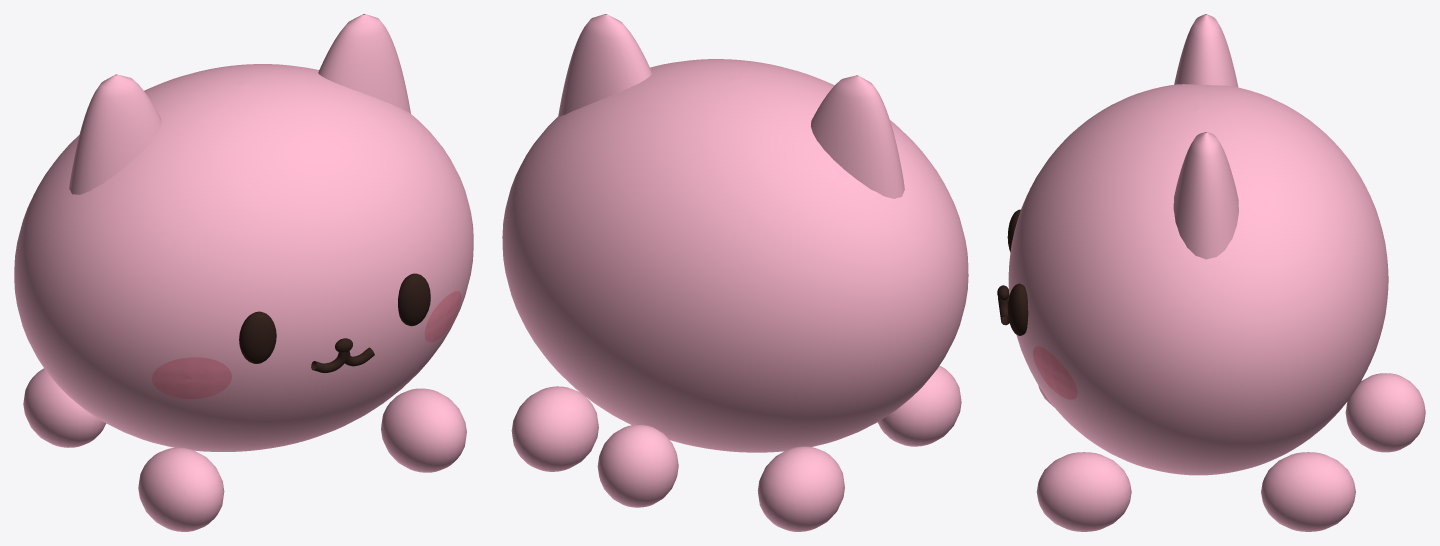
File: mochinyafe.glb
3 renders of one model, left to right at view 1: azimuth 30°, elevation 25°; view 2: azimuth 150°, elevation 25°; view 3: azimuth 270°, elevation 25°, orthographic. The views are drawn at different scales.
Visible parts, largest first — view 1: Mochinyafe_GAME_READY; view 2: Mochinyafe_GAME_READY; view 3: Mochinyafe_GAME_READY.
Boxes of the visible parts, x1,y1,x2,y2 form: Mochinyafe_GAME_READY: [14, 14, 473, 531]; Mochinyafe_GAME_READY: [502, 14, 968, 531]; Mochinyafe_GAME_READY: [997, 14, 1425, 531].
Bounding box in the file's own units: 0.316 × 0.295 × 0.2886.
